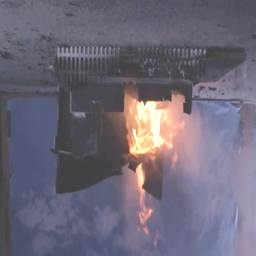fire: (123, 101, 182, 226)
